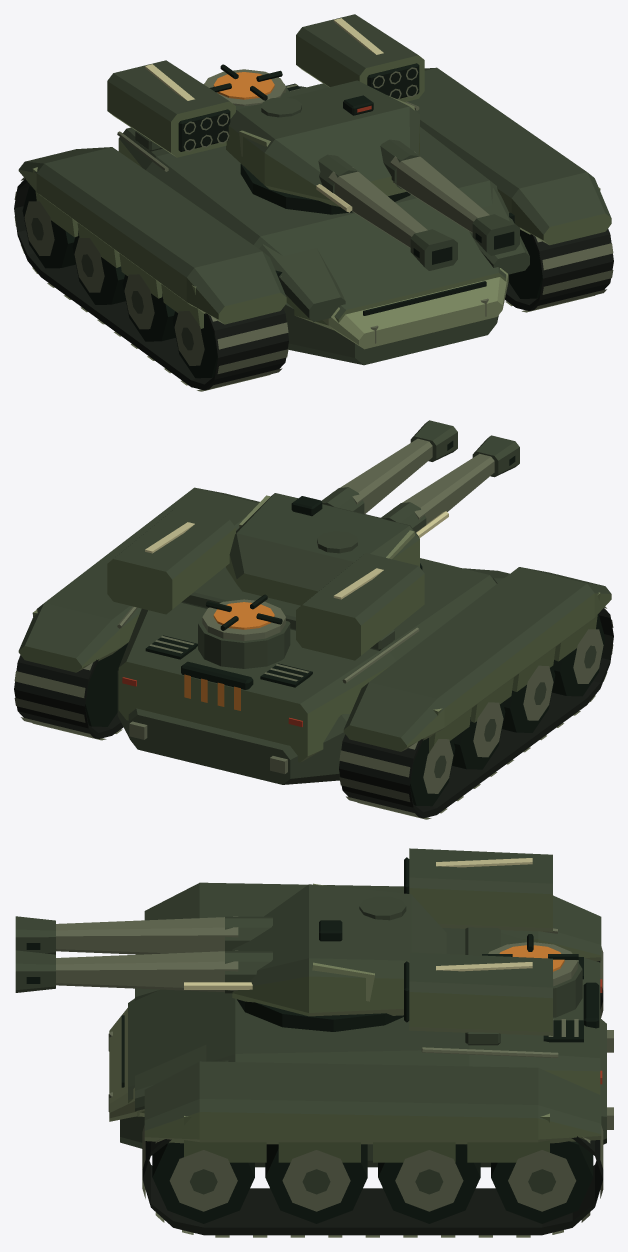
Rendered from boss_field.glb.
3 views of the same model, one above another, from view 1: azimuth 30°, elevation 25°; view 2: azimuth 150°, elevation 25°; view 3: azimuth 270°, elevation 25° (orthographic). The views are drawn at different scales.
Parts seen in each view (by area): view 1: Component_LeftDrive, Body, Component_GunPod, Component_RightDrive, Component_MissilePod, Component_Core; view 2: Component_LeftDrive, Body, Component_GunPod, Component_MissilePod, Component_RightDrive, Component_Core; view 3: Component_RightDrive, Component_GunPod, Body, Component_MissilePod, Component_LeftDrive, Component_Core.
Boxes of the visible parts, bbox=[...] form: Component_LeftDrive: bbox=[14, 147, 288, 391]; Body: bbox=[117, 83, 529, 365]; Component_GunPod: bbox=[226, 80, 519, 270]; Component_RightDrive: bbox=[407, 67, 613, 312]; Component_MissilePod: bbox=[107, 14, 424, 157]; Component_Core: bbox=[203, 64, 288, 106]; Component_LeftDrive: bbox=[339, 567, 613, 819]; Body: bbox=[117, 558, 509, 784]; Component_GunPod: bbox=[226, 420, 519, 605]; Component_MissilePod: bbox=[107, 507, 424, 660]; Component_RightDrive: bbox=[14, 487, 259, 740]; Component_Core: bbox=[181, 594, 290, 710]; Component_RightDrive: bbox=[142, 1061, 603, 1237]; Component_GunPod: bbox=[15, 883, 446, 1031]; Body: bbox=[108, 928, 613, 1167]; Component_MissilePod: bbox=[404, 848, 552, 1045]; Component_LeftDrive: bbox=[144, 882, 603, 1018]; Component_Core: bbox=[482, 934, 599, 1028].
Bounding box in the file's own units: 11.34 × 5.12 × 12.81.
Materials: 1 (1 with a texture image).
